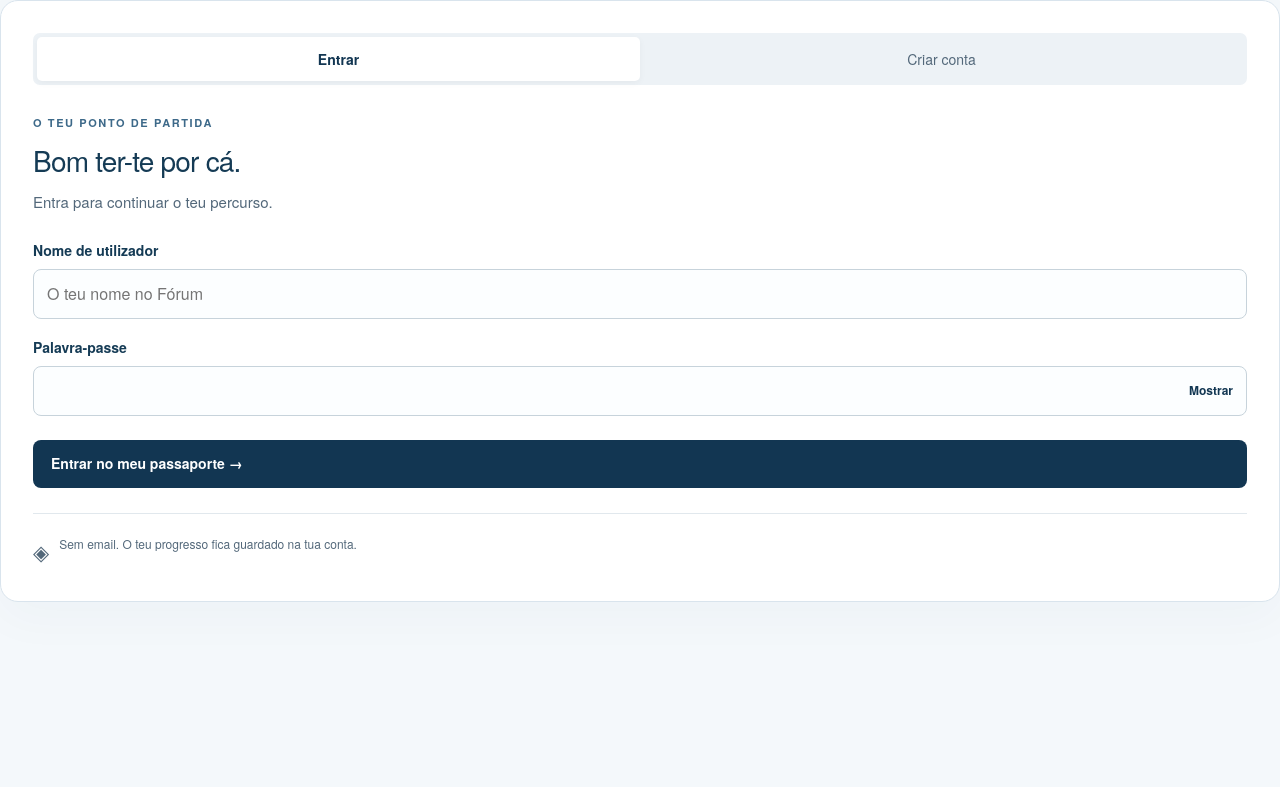
Test: deteta a confirmação diferente antes de enviar credenciais
The image size is (1280, 787).
Click the button "Criar conta": click(942, 59) left=640, top=37, right=1243, bottom=81
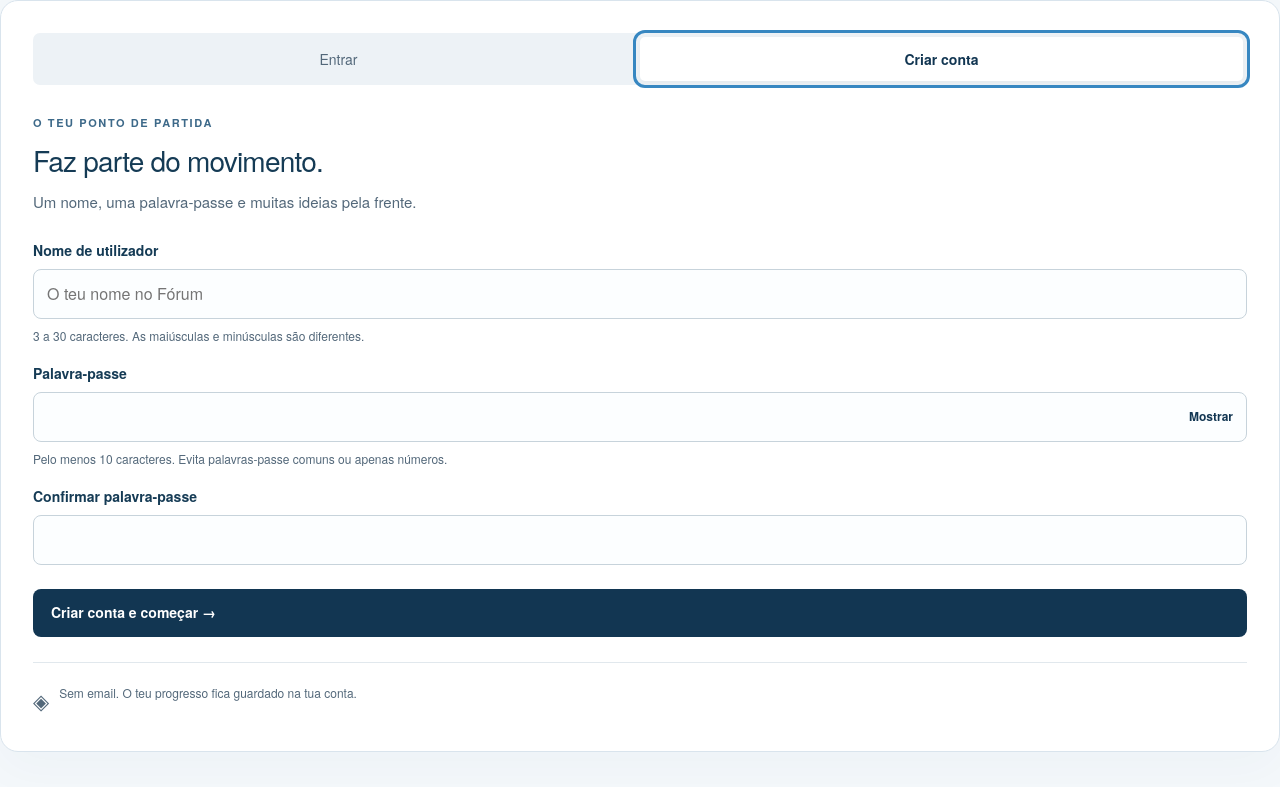
In the field labelled "Nome de utilizador": (640, 294) left=33, top=269, right=1247, bottom=319, type "nova"
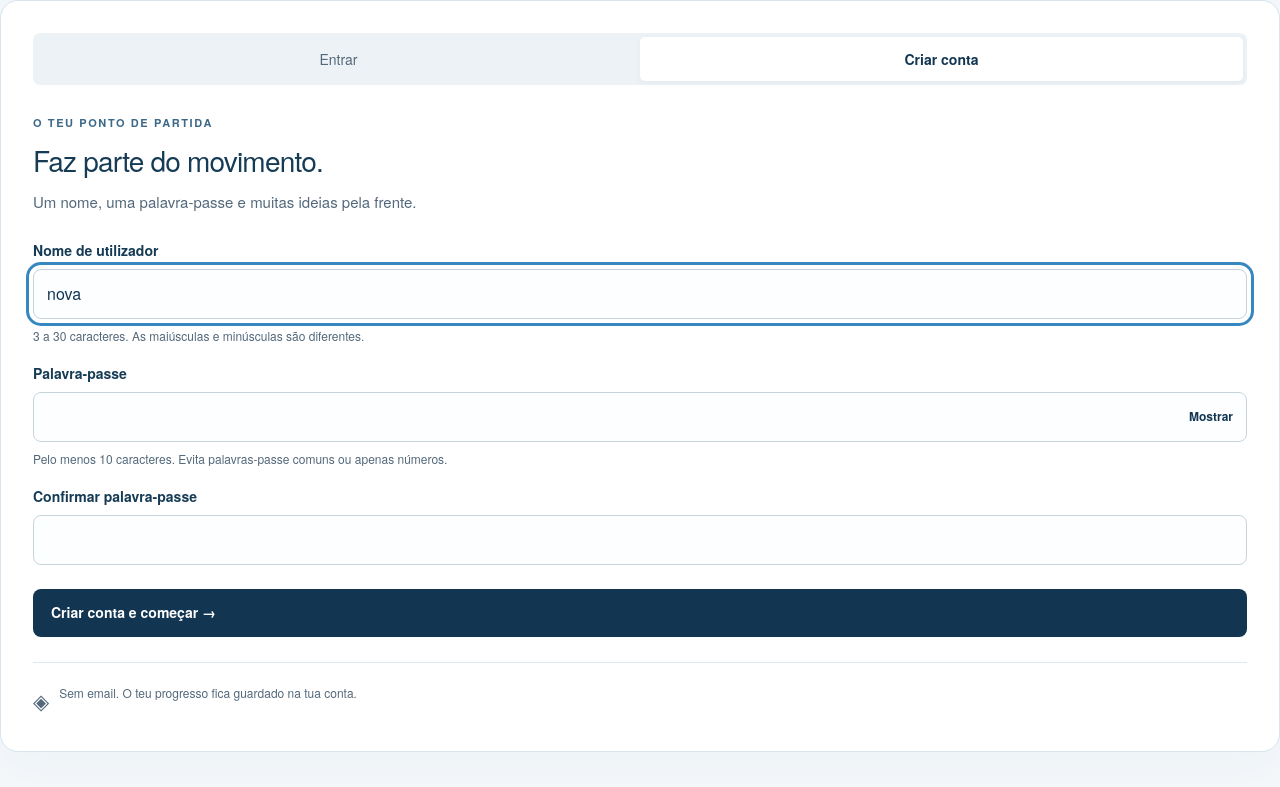
In the password field labelled "Palavra-passe": (640, 417) left=33, top=392, right=1247, bottom=442, type "Segura!12345"
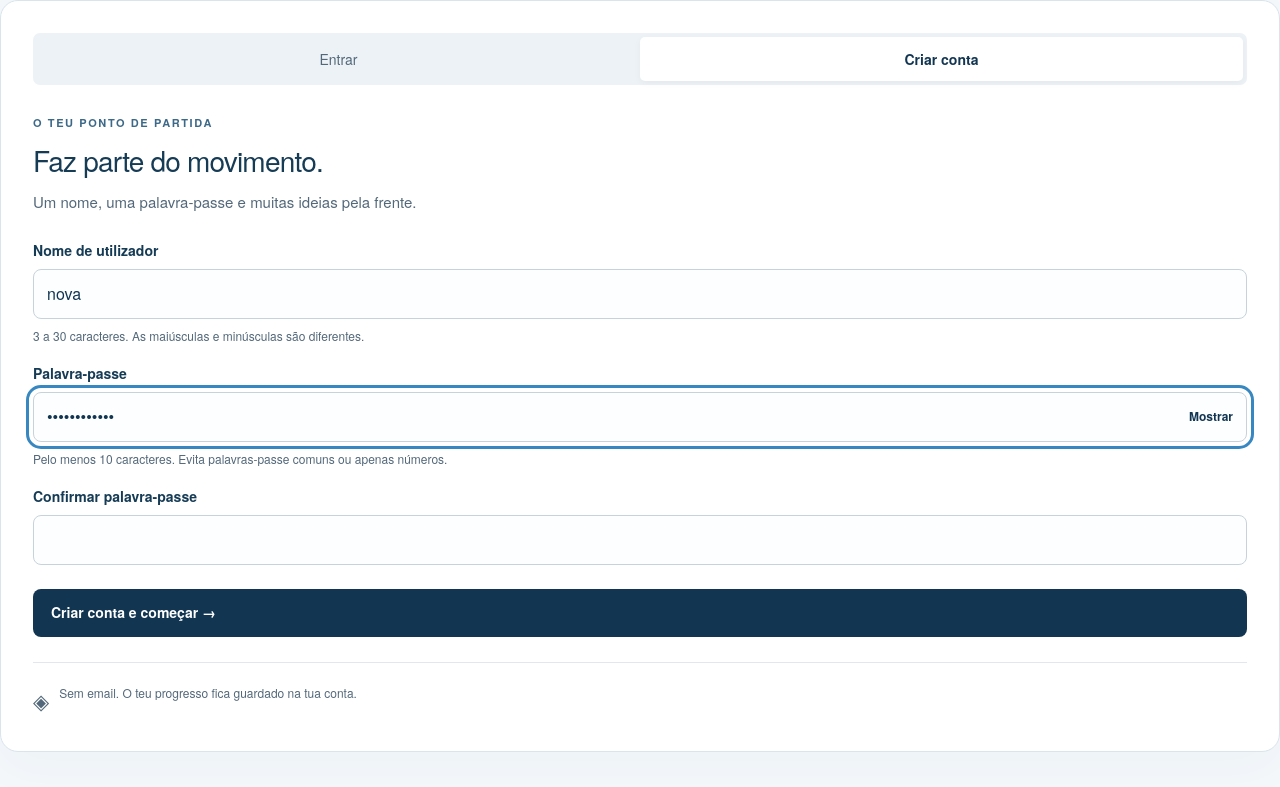
In the password field labelled "Confirmar palavra-passe": (640, 540) left=33, top=515, right=1247, bottom=565, type "diferente"
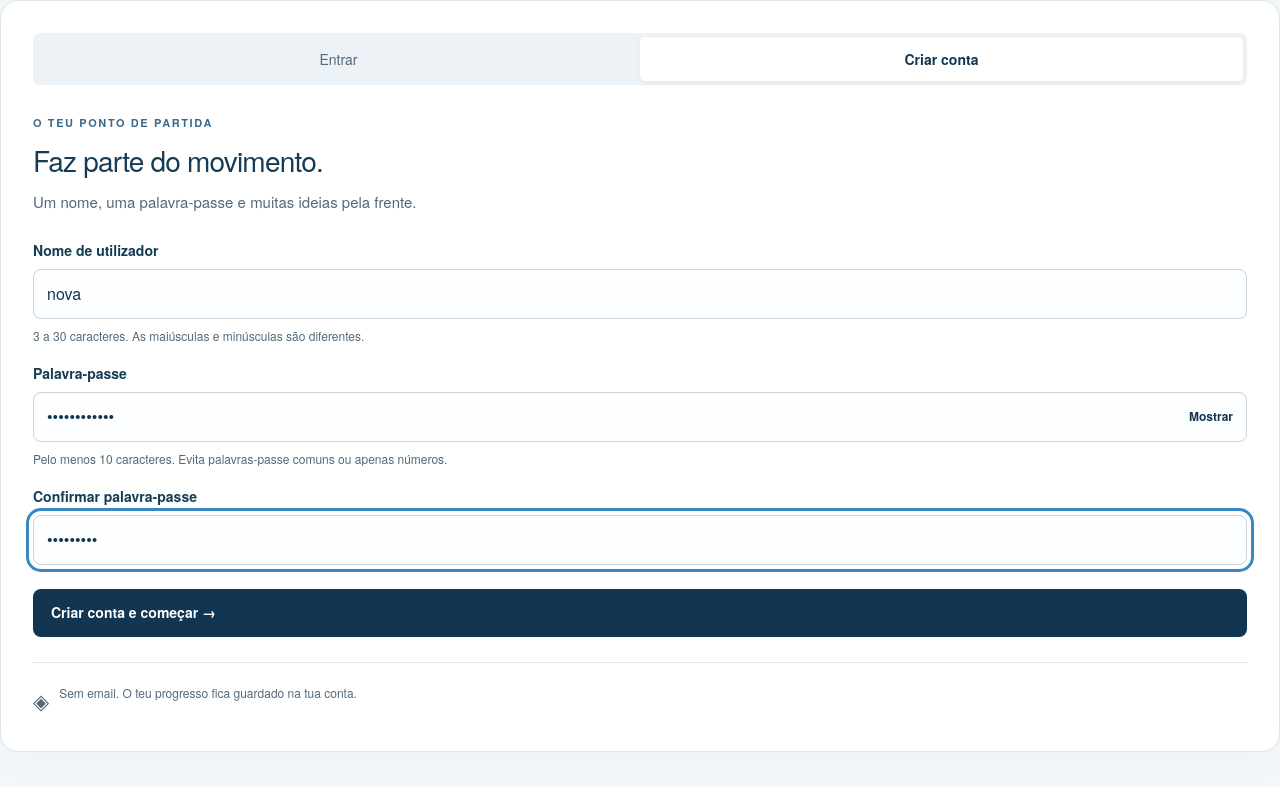
Click the button "Criar conta e começar →": click(134, 612) left=33, top=589, right=1247, bottom=637
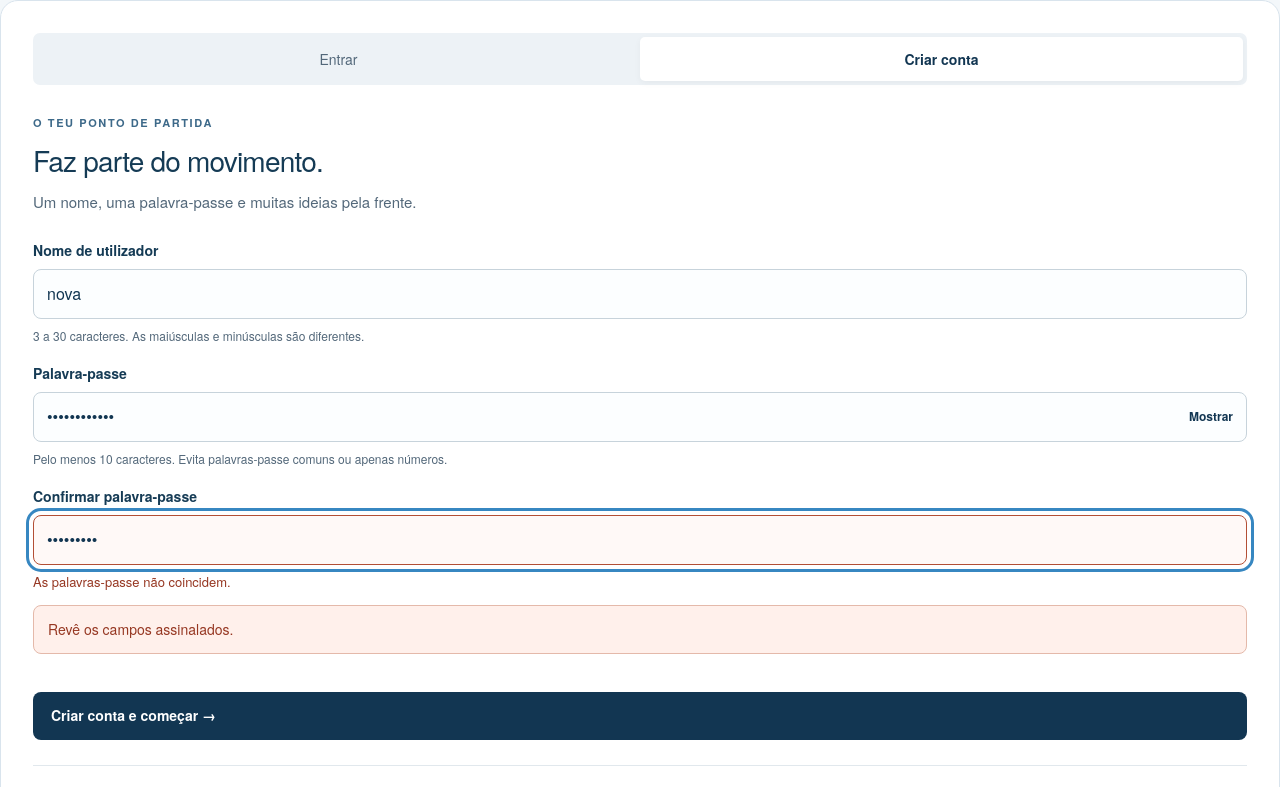
Now the text "As palavras-passe não coincidem." is shown, box left=33, top=572, right=231, bottom=591
